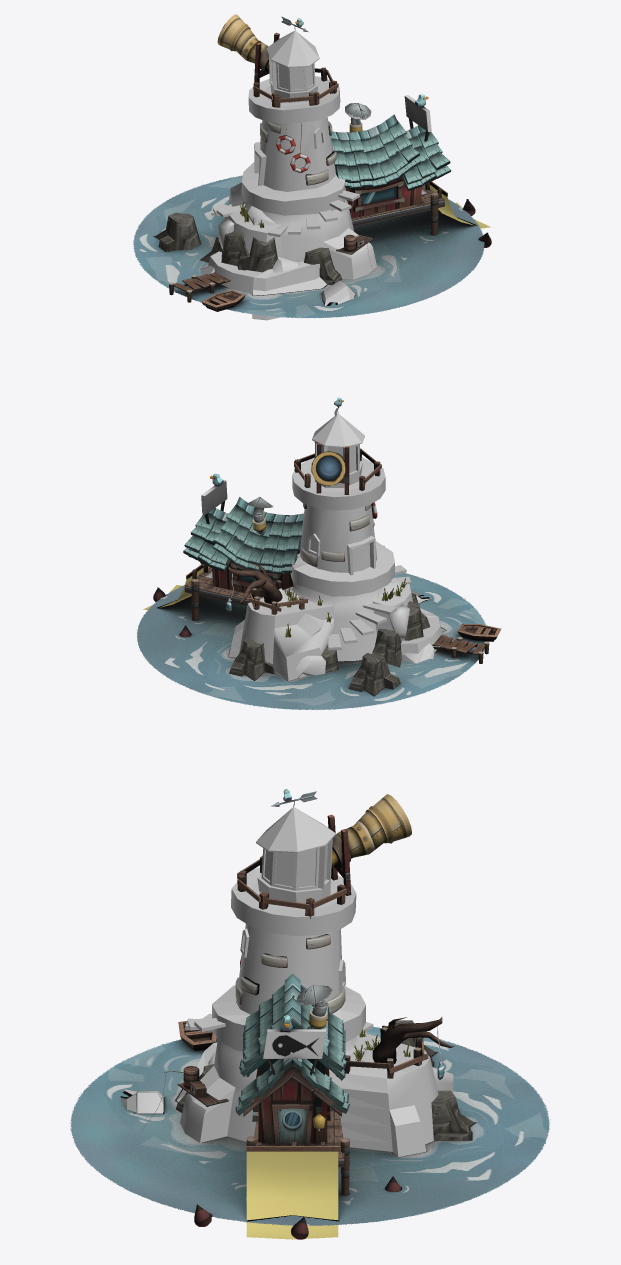
File: Cotman_Sam.fbx
The picture shows the model from 3 angles, top to bottom: view 1: azimuth 30°, elevation 25°; view 2: azimuth 150°, elevation 25°; view 3: azimuth 270°, elevation 25°; orthographic projection. The views are drawn at different scales.
Visible parts, largest first — view 1: Cylinder001, Plane001, Box091, Box003, Cylinder010, Box025, Box063, Box030, Box066, Box062, Box004, Box035 (+1 smaller); view 2: Cylinder001, Plane001, Box091, Box003, Box025, Box054, Cylinder010, Cylinder027, Box060, Box030, Box004, Box035 (+4 smaller); view 3: Plane001, Cylinder001, Box003, Plane002, Box091, Cylinder010, Box004, Box054, Cylinder027, Box043, Box006, Box005 (+1 smaller).
Boxes of the visible parts, x1,y1,x2,y2 form: Cylinder001: [208, 30, 376, 320]; Plane001: [133, 175, 484, 318]; Box091: [331, 120, 451, 190]; Box003: [331, 103, 445, 226]; Cylinder010: [217, 14, 269, 71]; Box025: [155, 212, 200, 252]; Box063: [237, 236, 277, 272]; Box030: [169, 272, 230, 302]; Box066: [304, 247, 341, 285]; Box062: [221, 231, 248, 266]; Box004: [404, 95, 431, 141]; Box035: [201, 290, 245, 311]; Cylinder001: [229, 413, 445, 680]; Plane001: [137, 573, 486, 709]; Box091: [183, 505, 302, 574]; Box003: [184, 497, 303, 605]; Box025: [349, 653, 400, 695]; Box054: [229, 637, 274, 680]; Cylinder010: [311, 451, 346, 486]; Cylinder027: [228, 562, 282, 603]; Box060: [372, 628, 401, 667]; Box030: [432, 635, 489, 663]; Box004: [201, 479, 227, 524]; Box035: [457, 624, 501, 641]; Plane001: [70, 1027, 550, 1225]; Cylinder001: [176, 807, 453, 1156]; Box003: [242, 973, 344, 1167]; Plane002: [246, 1151, 338, 1239]; Box091: [235, 984, 349, 1115]; Cylinder010: [331, 794, 411, 867]; Box004: [263, 1029, 326, 1075]; Box054: [431, 1090, 474, 1140]; Cylinder027: [372, 1017, 454, 1064]; Box043: [344, 1025, 428, 1078]; Box006: [121, 1089, 163, 1113]; Box005: [327, 814, 351, 895].
Size of the model in its own units: 800 by 520 by 800.
